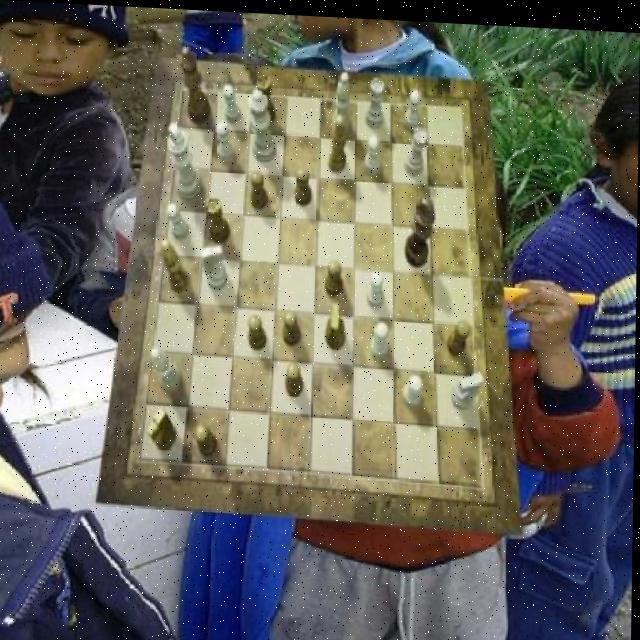bishop: (161, 237, 190, 292), (327, 110, 346, 169)
black-bishop: (406, 191, 436, 266)
black-king: (146, 405, 177, 450), (325, 299, 346, 346)
black-knight: (447, 314, 471, 352), (196, 422, 218, 455), (251, 167, 269, 206), (295, 164, 312, 204), (283, 307, 301, 344), (325, 258, 343, 295), (286, 360, 304, 395), (249, 312, 267, 347)
black-pawn: (178, 45, 212, 123)
black-queen: (205, 194, 230, 241), (257, 72, 276, 124)
black-rook: (151, 345, 183, 388), (332, 67, 350, 131)
white-bishop: (166, 119, 202, 198)
white-king: (451, 366, 484, 406), (201, 242, 228, 289)
white-knight: (167, 201, 190, 238), (216, 118, 236, 160), (371, 317, 390, 355), (222, 82, 240, 122), (401, 371, 422, 405), (367, 266, 385, 304), (404, 86, 421, 126), (364, 132, 380, 173)
white-pawn: (248, 87, 278, 161)
white-queen: (404, 123, 428, 173), (364, 75, 384, 127)
